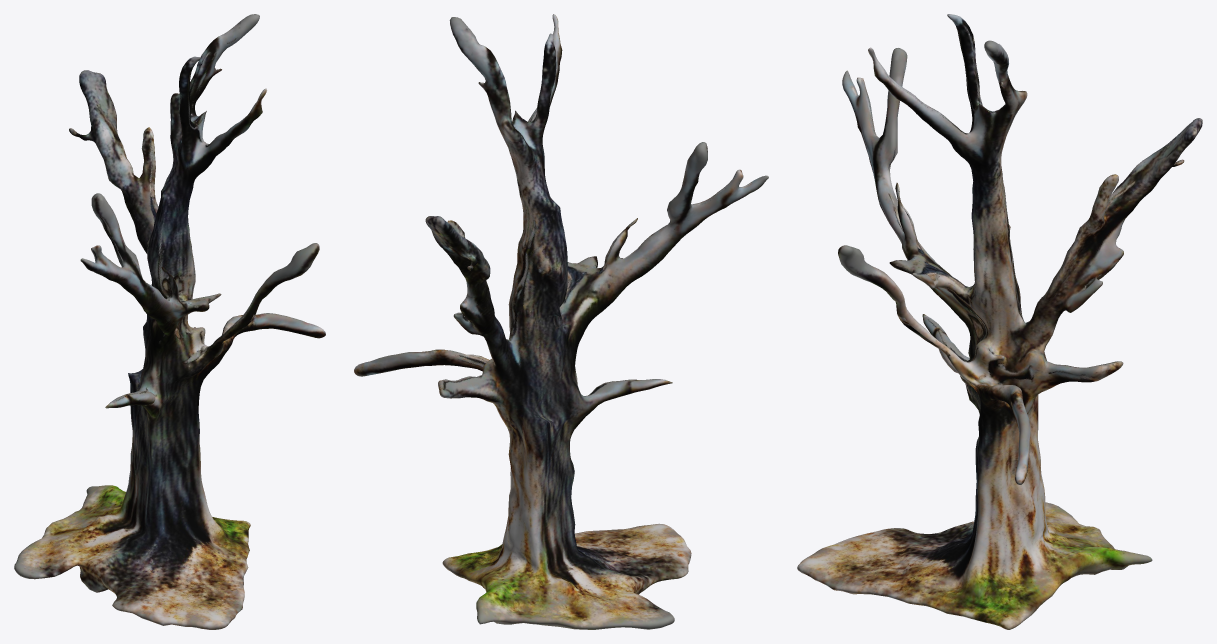
The model's file is 1391a0597ca0_dead_tree_min.fbx.
3 views of the same model, side by side, from view 1: azimuth 30°, elevation 25°; view 2: azimuth 150°, elevation 25°; view 3: azimuth 270°, elevation 25° (orthographic). The views are drawn at different scales.
Visible parts, largest first — view 1: mesh; view 2: mesh; view 3: mesh.
Boxes of the visible parts, bbox=[...] form: mesh: bbox=[14, 14, 325, 629]; mesh: bbox=[354, 14, 768, 629]; mesh: bbox=[797, 14, 1202, 629].
Bounding box in the file's own units: 62.6 × 99.73 × 60.59.
